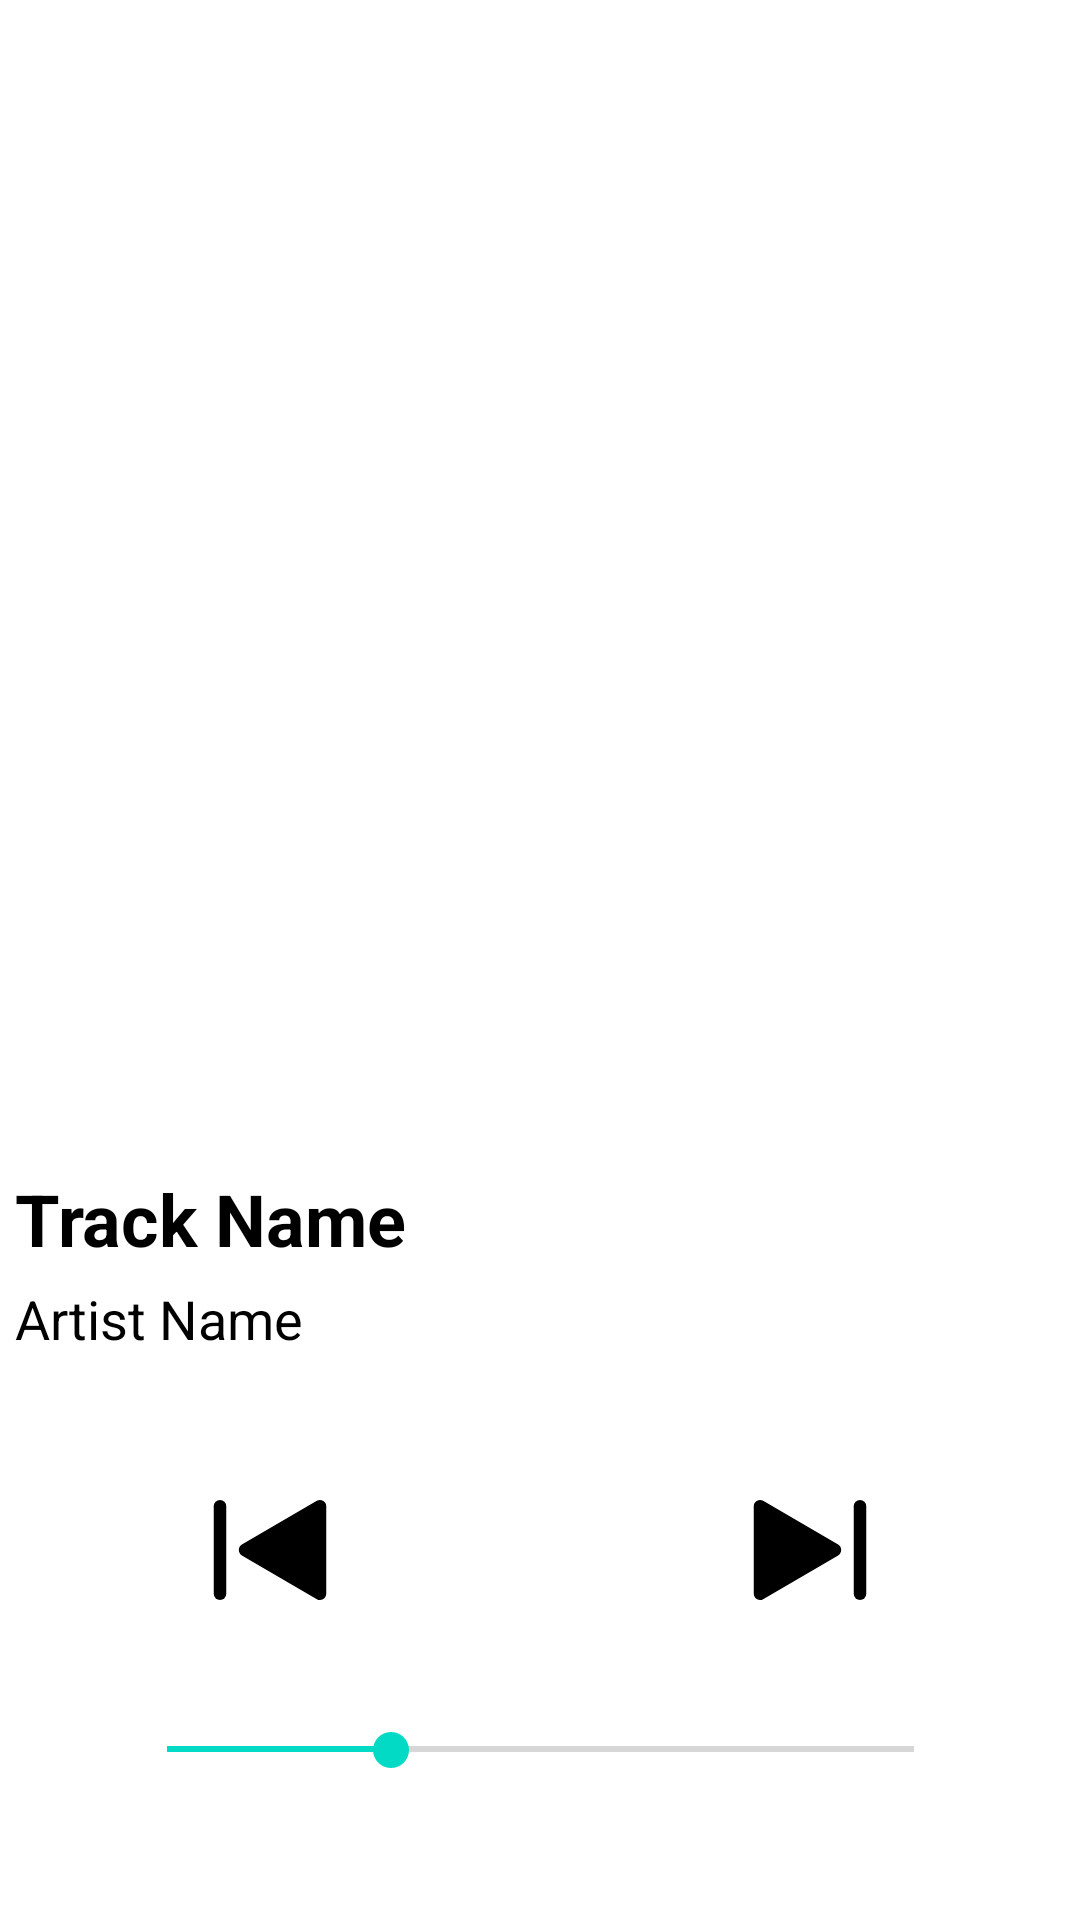

Where to tap for icons on this 1080 x 1920 app screen, as [x,y]:
player back: [270,1550]
player skip: [810,1550]
